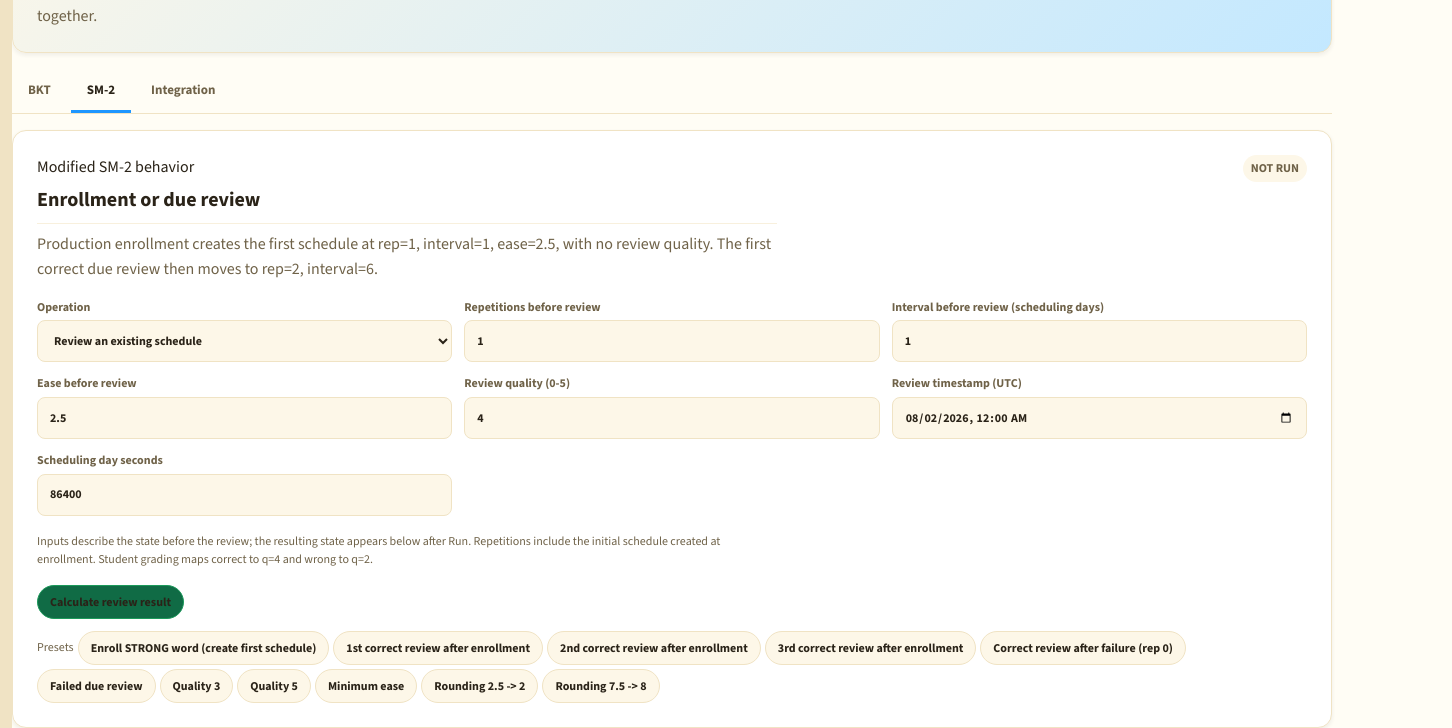
Scenario: SM-2 production lifecycle presets › keeps third maintenance review and relearning after failure distinct
The image size is (1452, 728).
(page scrolled)
Click the button "3rd correct review after enrollment" at (871, 648), box [765,631,976,665]
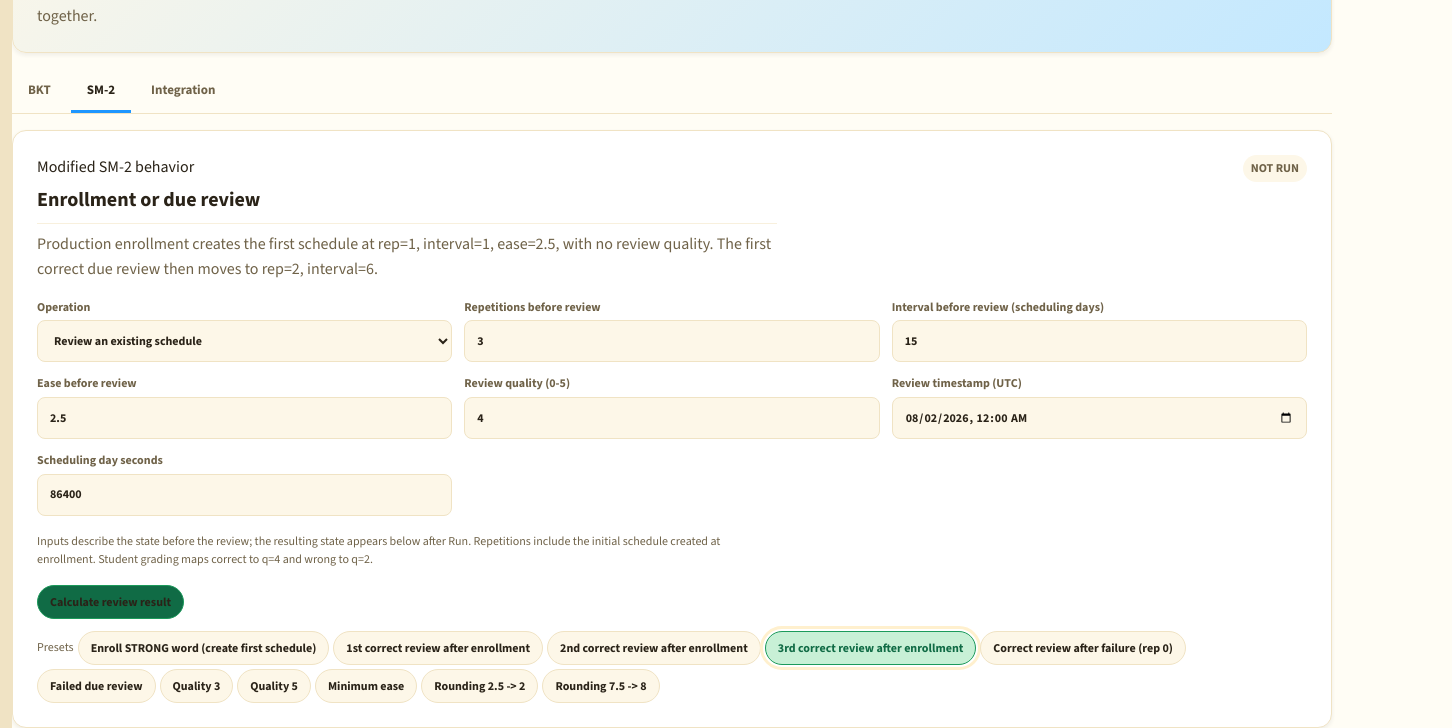
Expected: the number field labelled "Repetitions before review" holds "3", [464,320,880,362]
Expected: the number field labelled "Interval before review (scheduling days)" holds "15", [892,320,1307,362]
Click the button "Correct review after failure (rep 0)" at (1083, 648), box [980,631,1186,665]
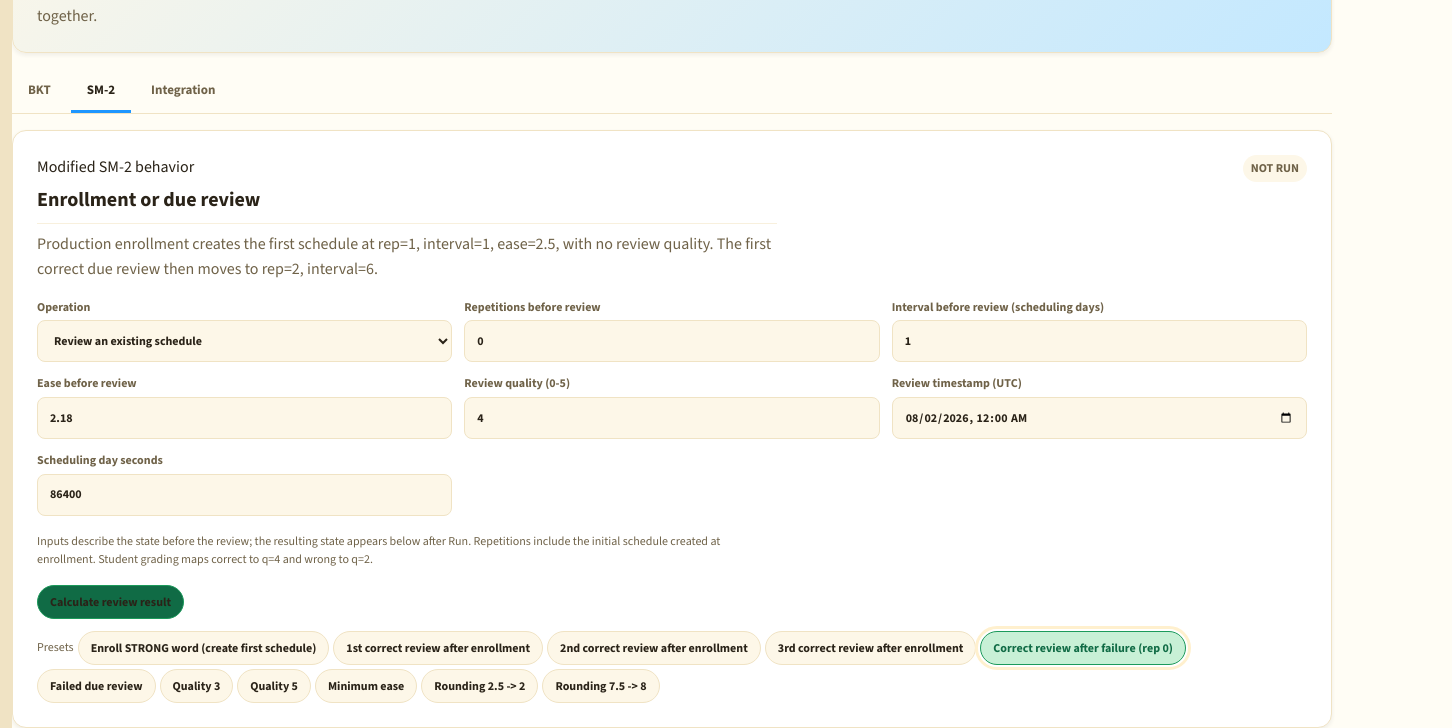
Expected: the number field labelled "Repetitions before review" holds "0", [464,320,880,362]
Expected: the number field labelled "Interval before review (scheduling days)" holds "1", [892,320,1307,362]
Expected: the number field labelled "Ease before review" holds "2.18", [37,397,452,439]
